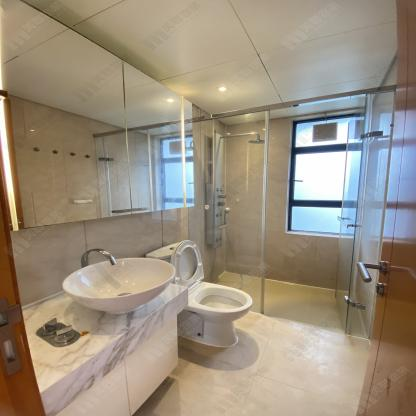Exhaust Fan: (312, 122, 338, 142)
Faucet: (75, 246, 117, 267)
Toilet: (146, 240, 253, 348)
Toilet Sink: (62, 257, 177, 313)
Water Cubicle: (186, 84, 396, 341)
